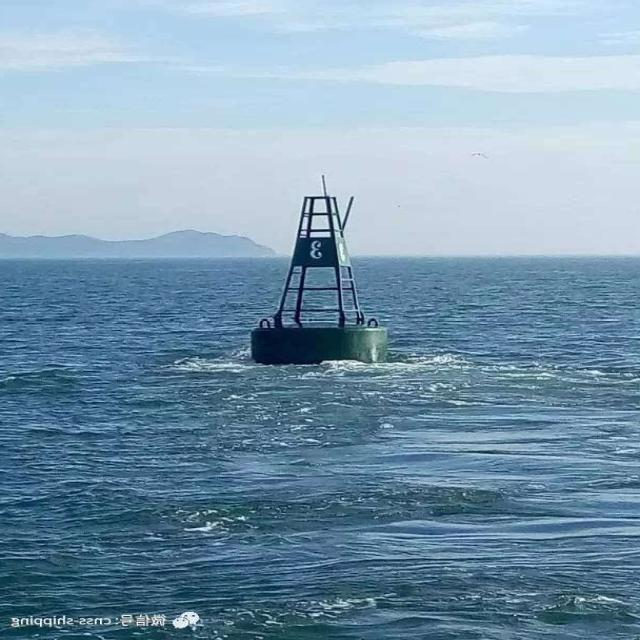buoy: (253, 170, 384, 363)
